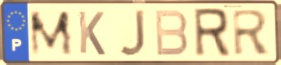B: (153, 9, 190, 58)
J: (117, 8, 147, 58)
K: (76, 10, 107, 57)
M: (28, 9, 76, 58)
R: (192, 7, 232, 60), (231, 8, 273, 58)
